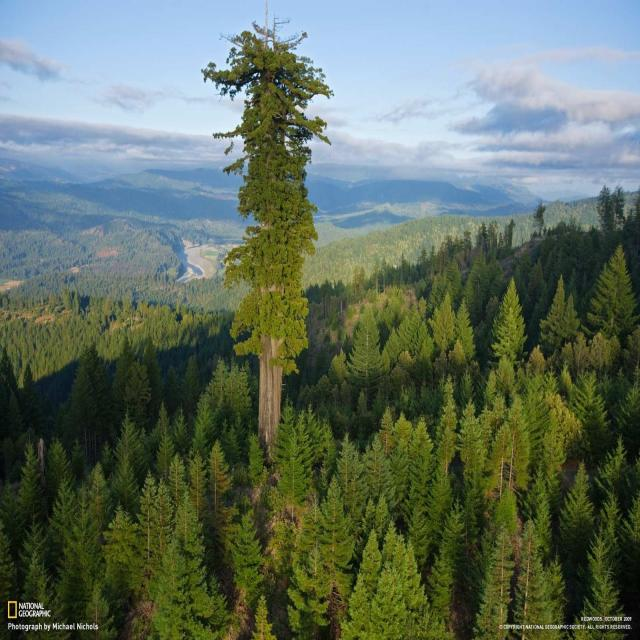Sequoia sempervirens: (200, 19, 339, 457)
